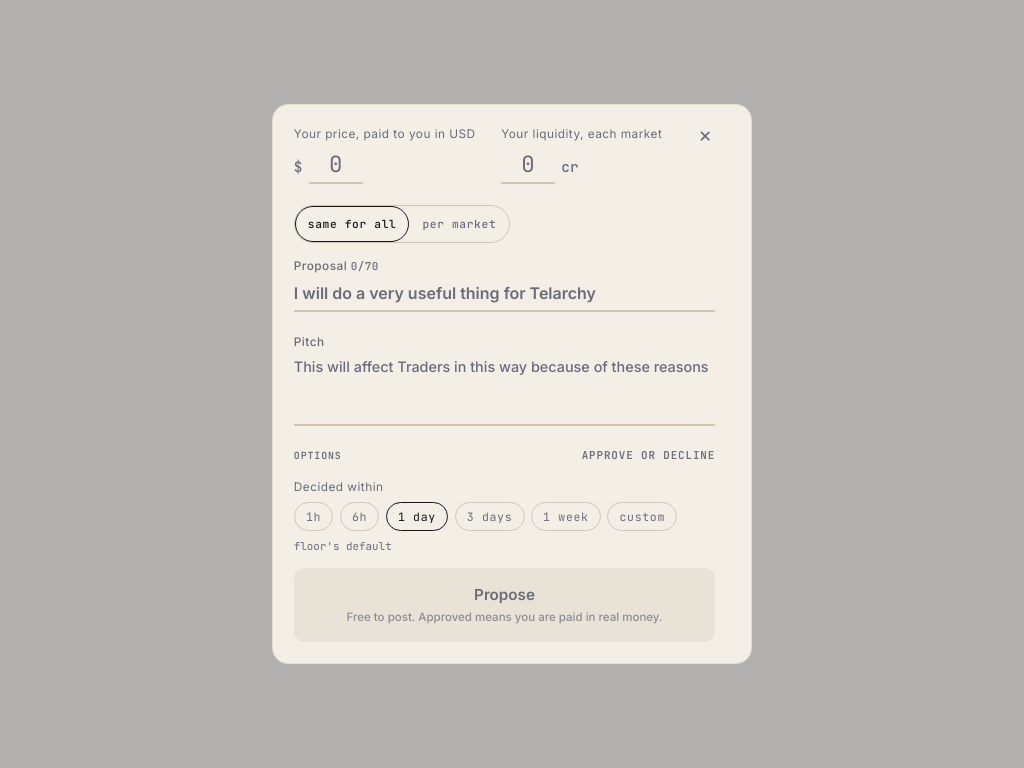
Test: one number fills every book › with three options typed, every book has three sides and the bill says so
Click the button "Options approve or decline" at (318, 456), box [294,447,715,464]
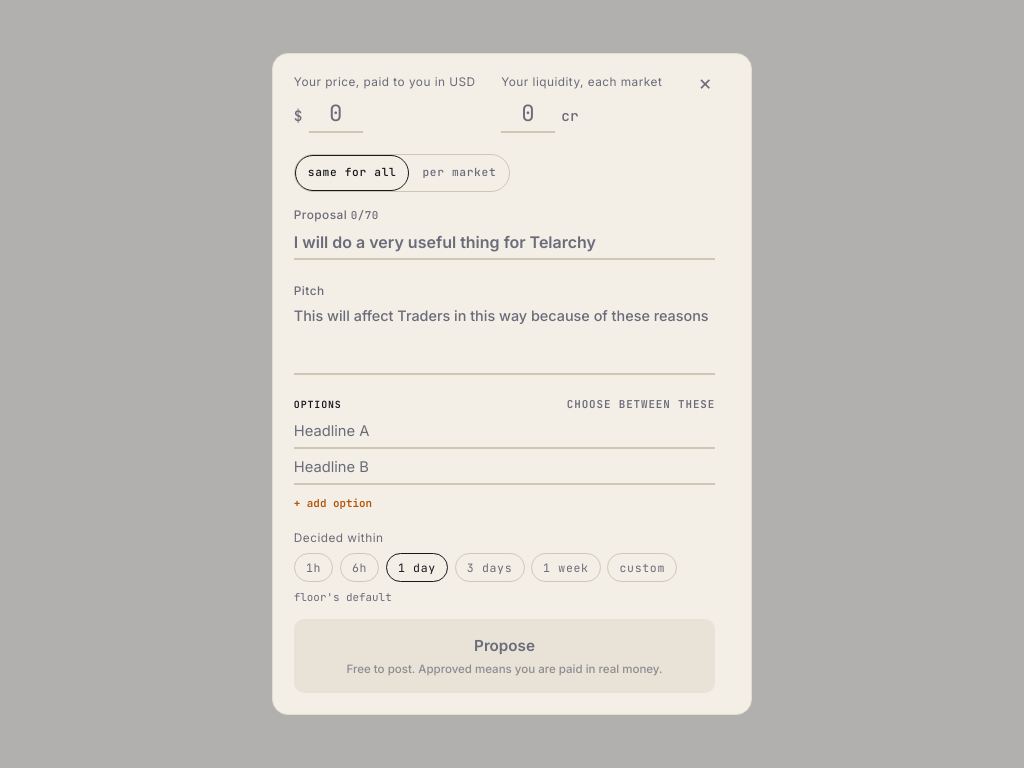
Type "A" into the field labelled "Headline A" at (504, 435), box [294,420,715,449]
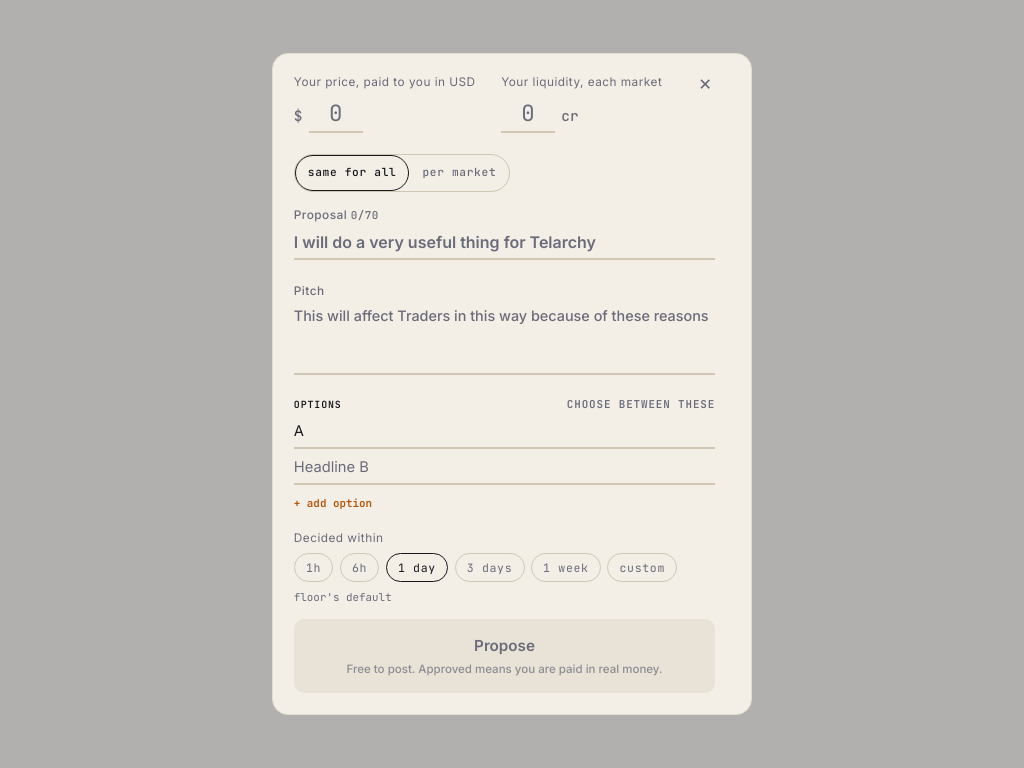
Type "B" into the field labelled "Headline B" at (504, 471), box [294,456,715,485]
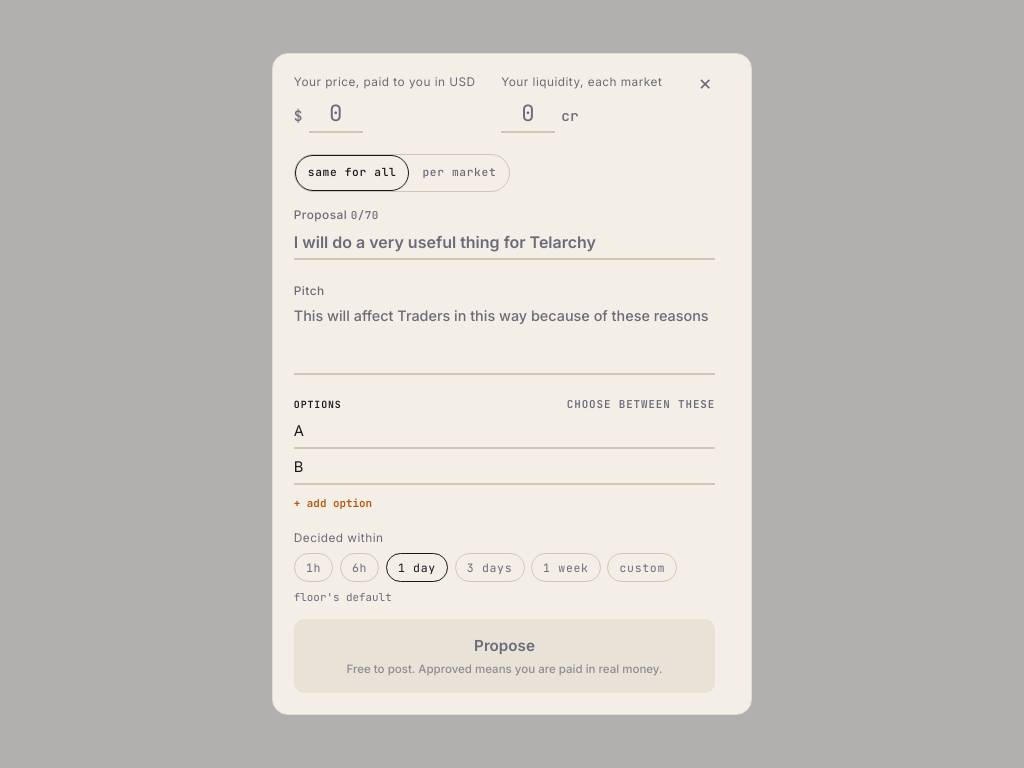
Click the button "+ add option" at (333, 504), box [294,492,372,515]
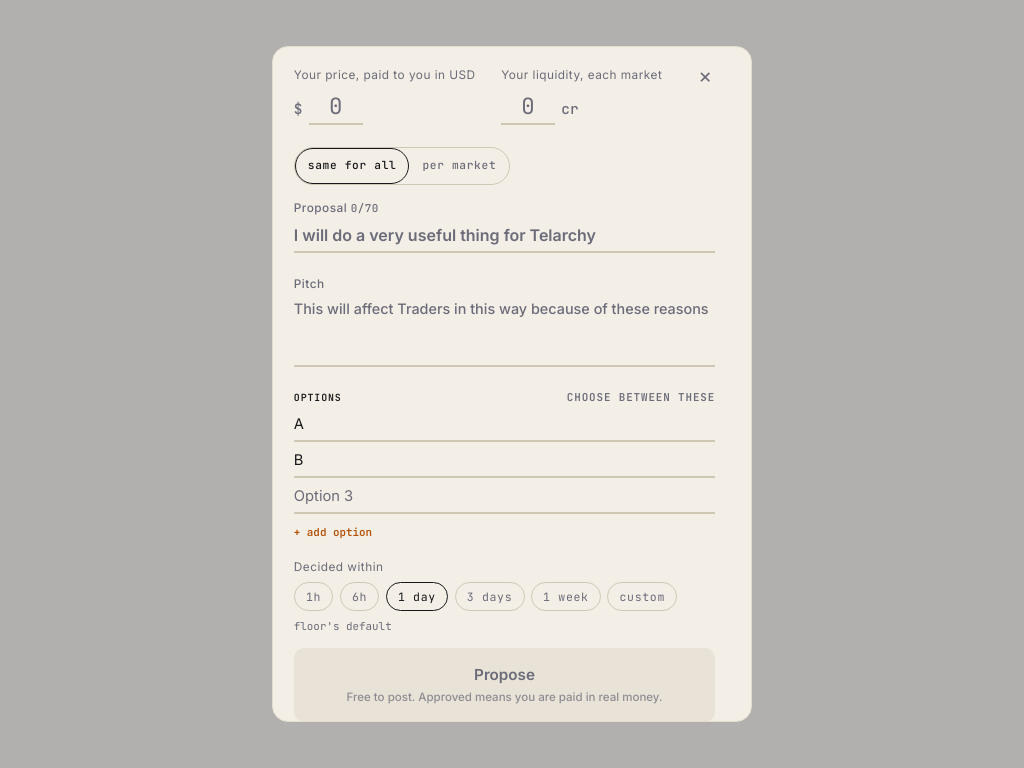
Type "C" into the field labelled "Option 3" at (504, 500), box [294,485,715,514]
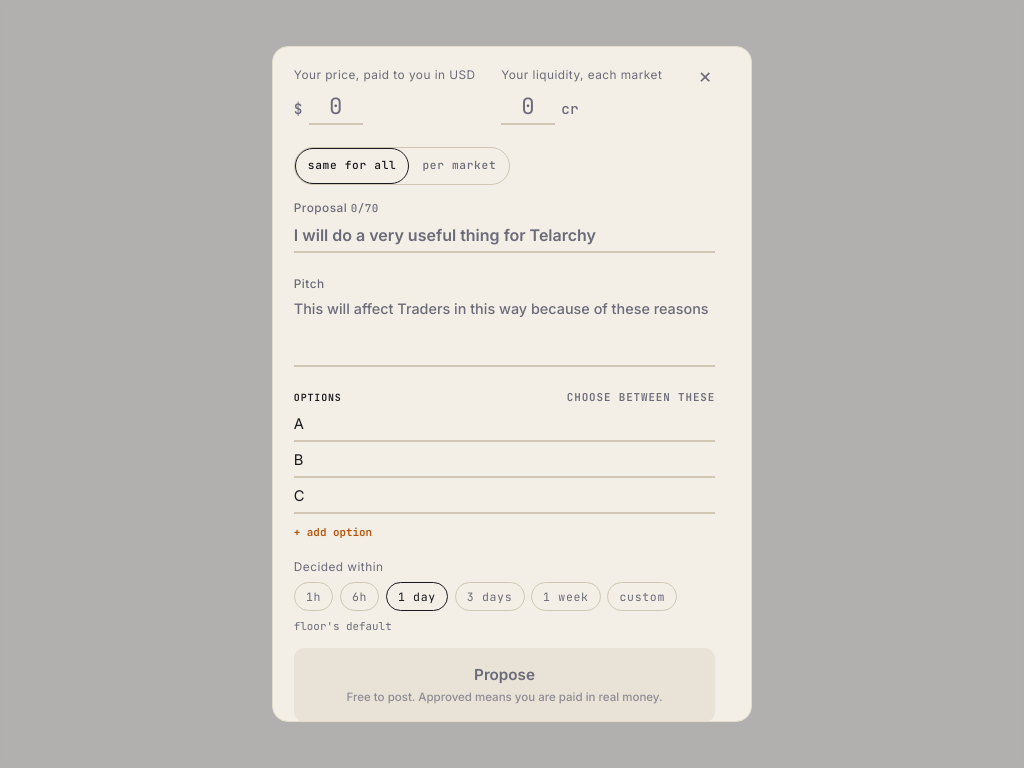
Type "100" into the field named "each market" at (528, 107), box [501,89,555,125]
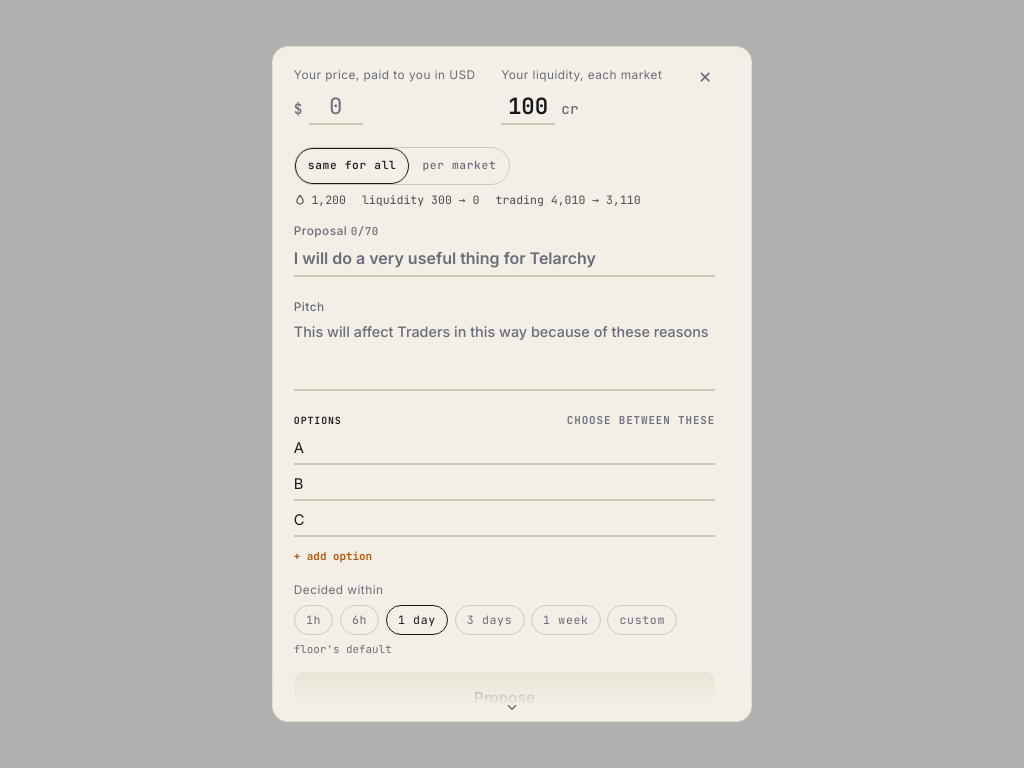
Expected: the button with class "ticket-go" reads "Propose Puts 1,200 cr of yours in its markets.", [294,672,715,722]
